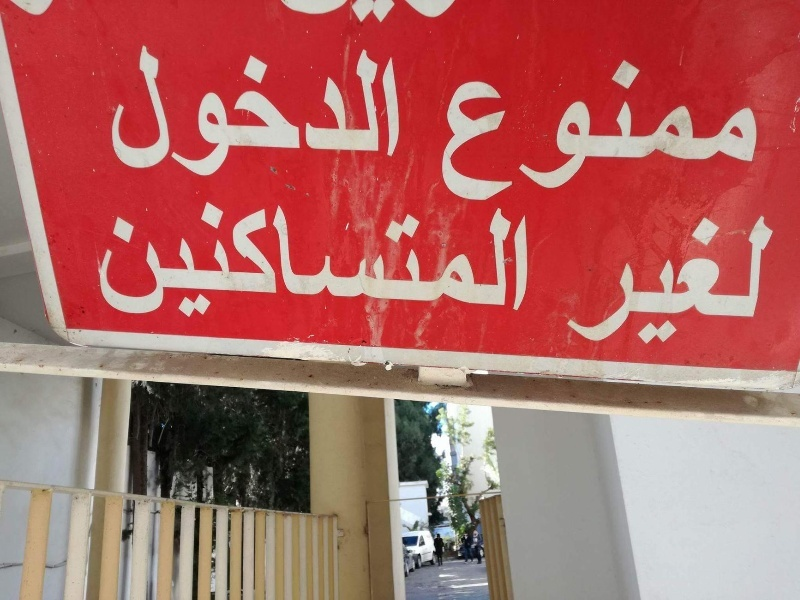text: (465, 50, 480, 210), (481, 50, 496, 210), (497, 50, 512, 210), (513, 50, 528, 210), (529, 50, 544, 210), (545, 50, 560, 210), (561, 50, 576, 210), (577, 50, 592, 210), (593, 50, 608, 210), (609, 50, 624, 210), (625, 50, 640, 210), (641, 50, 656, 210), (657, 50, 672, 210), (673, 50, 688, 210), (689, 50, 704, 210), (705, 50, 720, 210), (721, 50, 736, 210), (737, 50, 752, 210), (577, 210, 592, 367), (593, 210, 608, 367), (609, 210, 624, 367), (625, 210, 640, 367), (641, 210, 656, 367), (657, 210, 672, 367), (673, 210, 688, 367), (689, 210, 704, 367), (705, 210, 720, 367), (721, 210, 736, 367), (737, 210, 752, 367), (753, 210, 768, 367), (450, 50, 464, 210), (113, 44, 128, 186), (129, 44, 144, 186), (145, 44, 160, 186), (161, 44, 176, 186), (177, 44, 192, 186), (193, 44, 208, 186), (209, 44, 224, 186), (225, 44, 240, 186), (241, 44, 256, 186), (257, 44, 272, 186), (273, 44, 288, 186), (289, 44, 304, 186), (305, 44, 320, 186), (321, 44, 336, 186), (337, 44, 352, 186), (353, 44, 368, 186), (369, 44, 384, 186), (385, 44, 400, 186), (97, 196, 112, 319), (113, 196, 128, 319), (129, 196, 144, 319), (145, 196, 160, 319), (161, 196, 176, 319), (177, 196, 192, 319), (193, 196, 208, 319), (209, 196, 224, 319), (225, 196, 240, 319), (241, 196, 256, 319), (257, 196, 272, 319), (273, 196, 288, 319), (289, 196, 304, 319), (305, 196, 320, 319), (321, 196, 336, 319), (337, 196, 352, 319), (353, 196, 368, 319), (369, 196, 384, 319), (385, 196, 400, 319), (401, 196, 416, 319), (417, 196, 432, 319), (433, 196, 448, 319), (449, 196, 464, 319), (465, 196, 480, 319), (481, 196, 496, 319), (497, 196, 512, 319), (513, 196, 528, 319), (565, 210, 576, 367), (769, 210, 779, 367), (753, 50, 760, 210), (401, 44, 403, 186), (111, 44, 112, 186), (529, 196, 530, 319)
